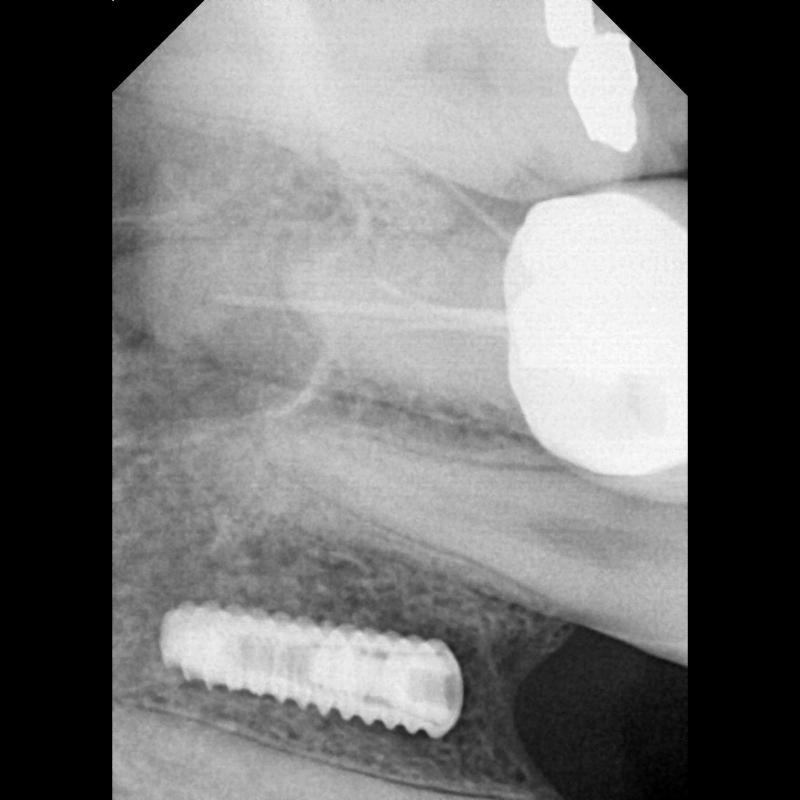osstem: (157, 590, 467, 754)
